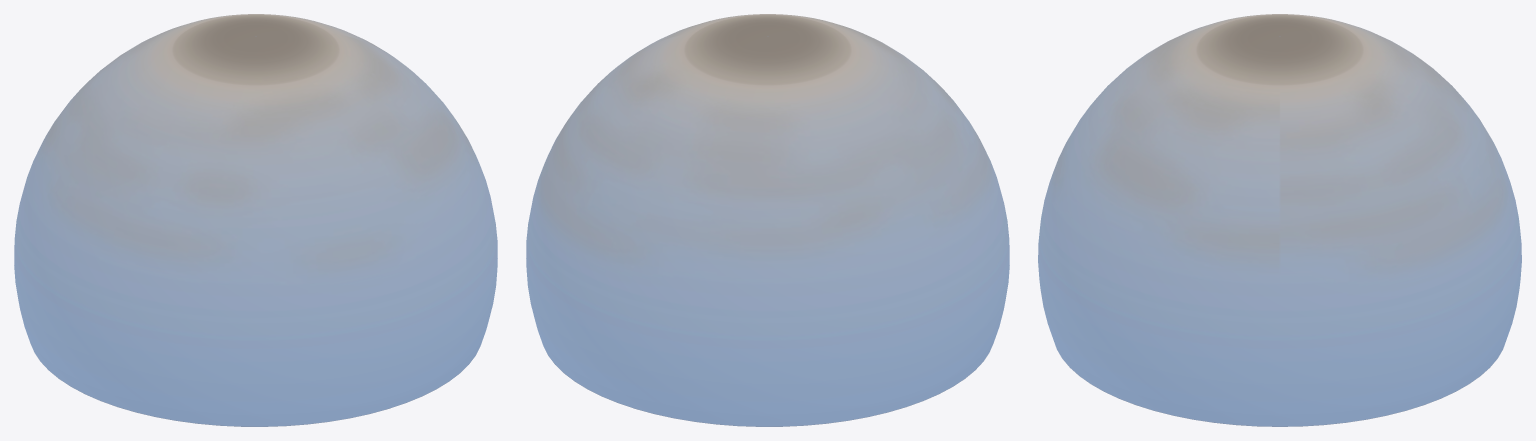
Rendered from dome.dae.
3 renders of one model, left to right at view 1: azimuth 30°, elevation 25°; view 2: azimuth 150°, elevation 25°; view 3: azimuth 270°, elevation 25°, orthographic.
Visible parts, largest first — view 1: q; view 2: q; view 3: q.
Boxes of the visible parts, box(x1,y1,x2,y2) form: q: box(14, 14, 497, 426); q: box(526, 14, 1009, 426); q: box(1038, 14, 1521, 426).
Size of the model in its own units: 2 by 2 by 1.34.
